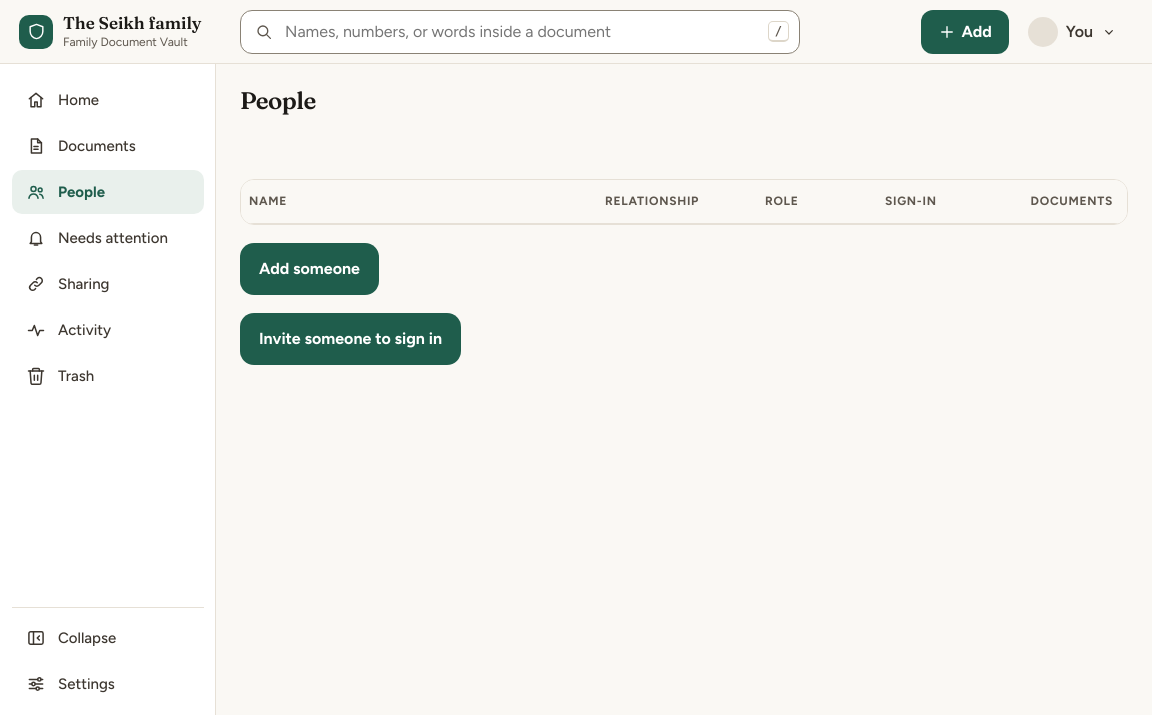
Test: someone outside the family (5.34) › an adult gives a guest only what they can, never Adults only documents
Step 1. Click the button "Invite someone to sign in" → (350, 339), box left=240, top=313, right=461, bottom=365
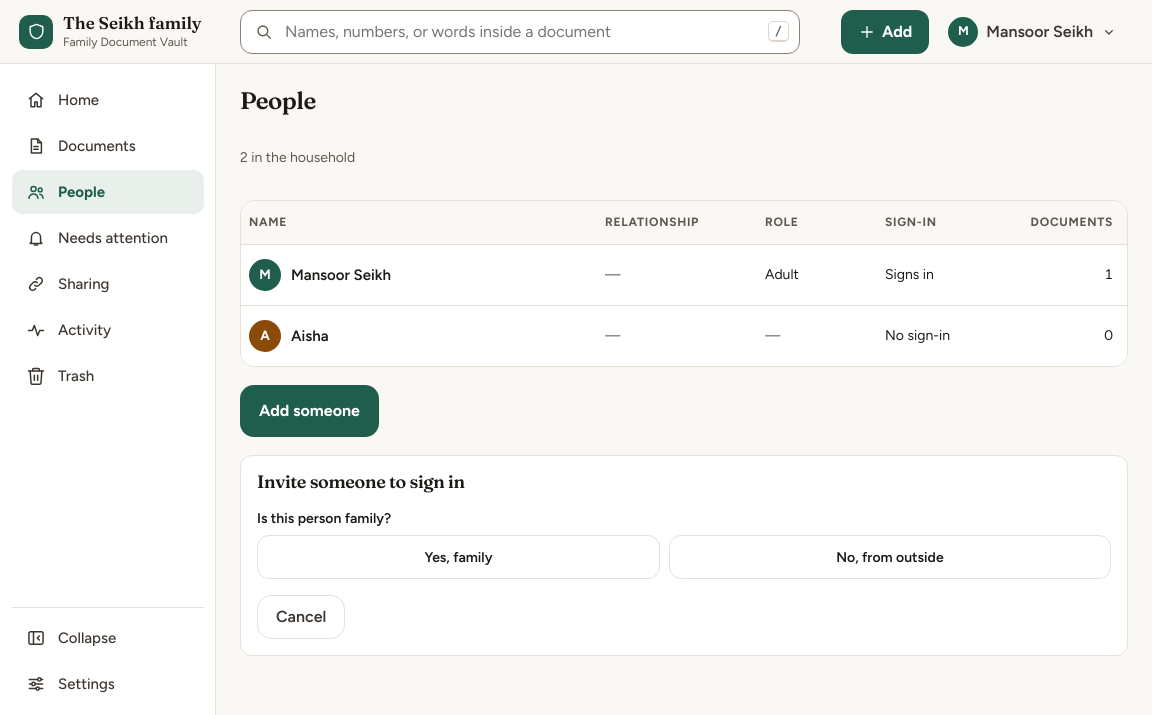
Step 2. Click the button "No, from outside" → (890, 557), box left=669, top=535, right=1111, bottom=579
(page scrolled)
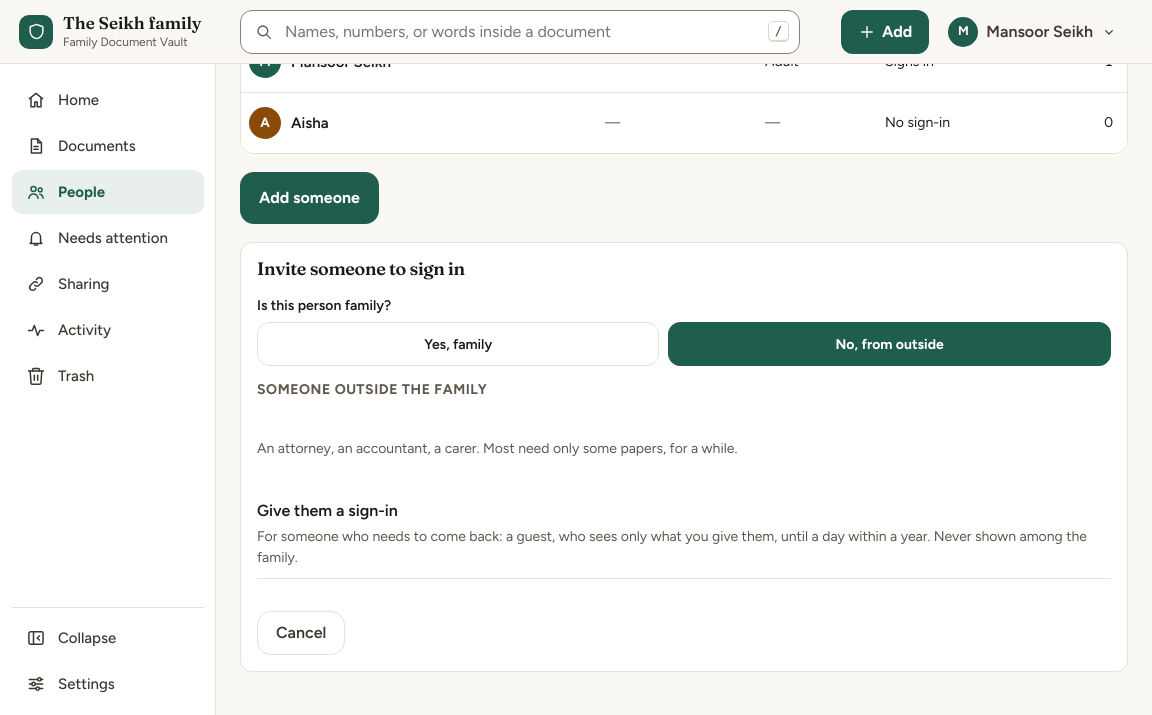
Step 3. Click the button "Give them a sign-in" → (684, 533), box left=257, top=499, right=1111, bottom=568
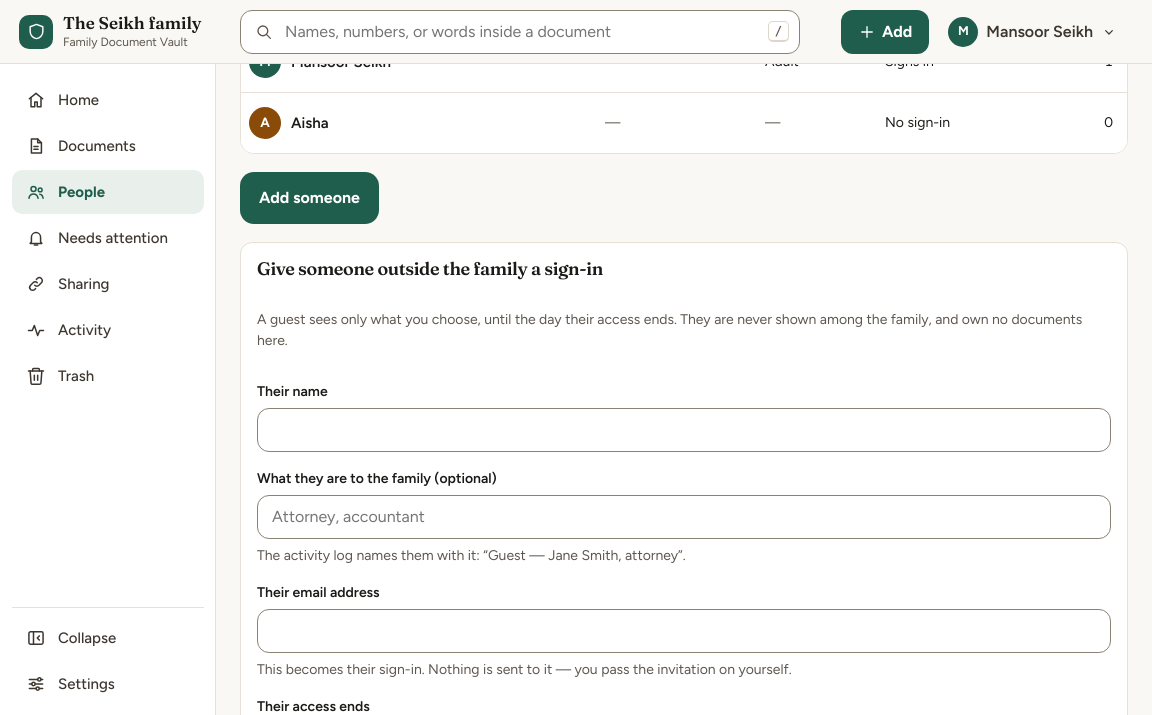
Result: the heading "Give someone outside the family a sign-in" is shown at left=257, top=257, right=603, bottom=280
Step 4. Type "Ann" into the field labelled "Their name" → (684, 430), box left=257, top=408, right=1111, bottom=452
Step 5. Type "ann@example.test" into the field labelled "Their email address" → (684, 631), box left=257, top=609, right=1111, bottom=653
(page scrolled)
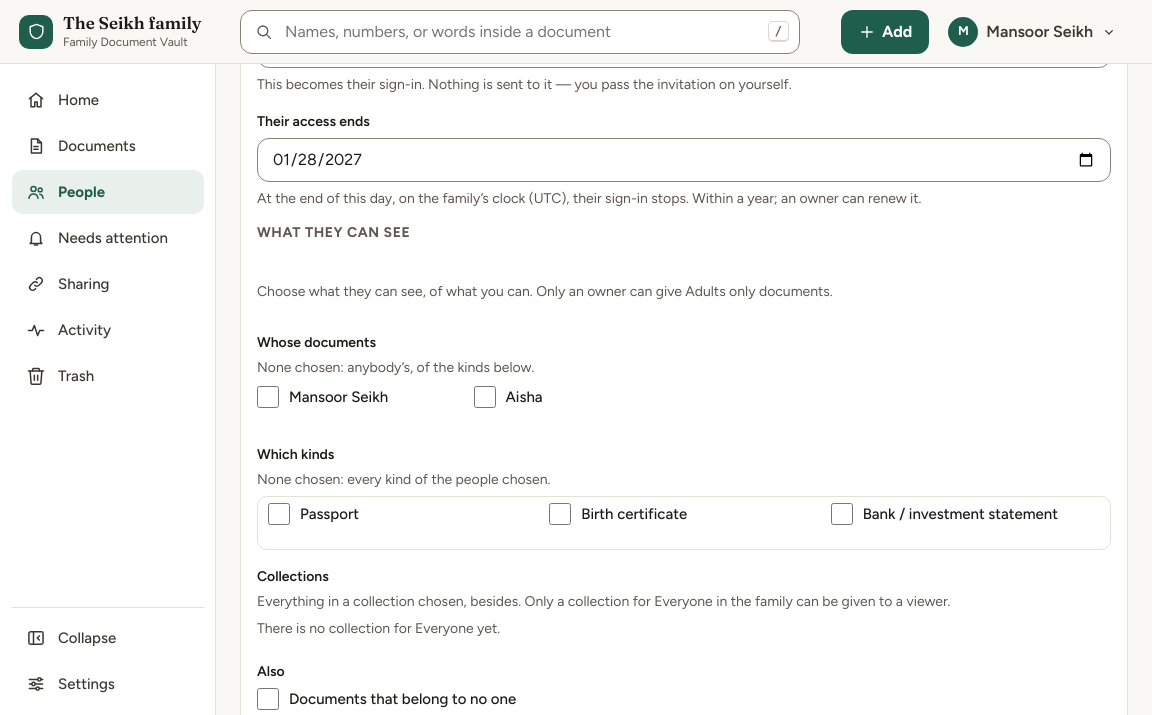
Step 6. Click the checkbox labelled "Aisha" → (484, 397), box left=474, top=386, right=496, bottom=408
(page scrolled)
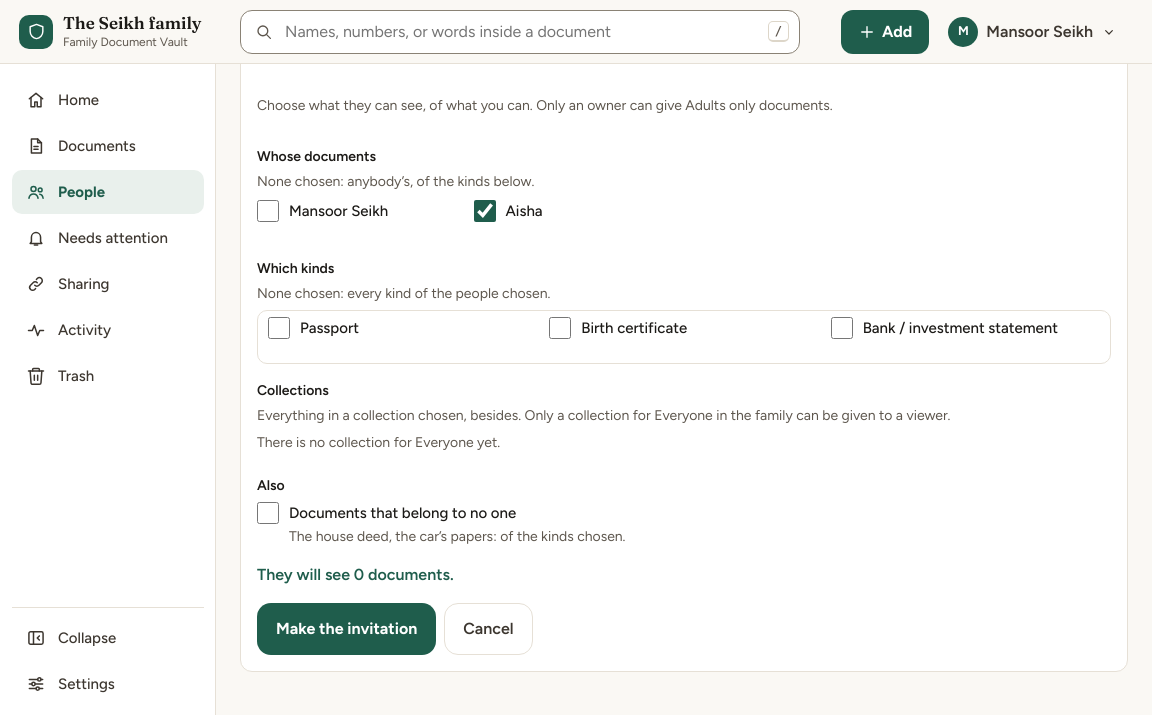
Step 7. Click the button "Make the invitation" → (347, 629), box left=257, top=603, right=436, bottom=655
(page scrolled)
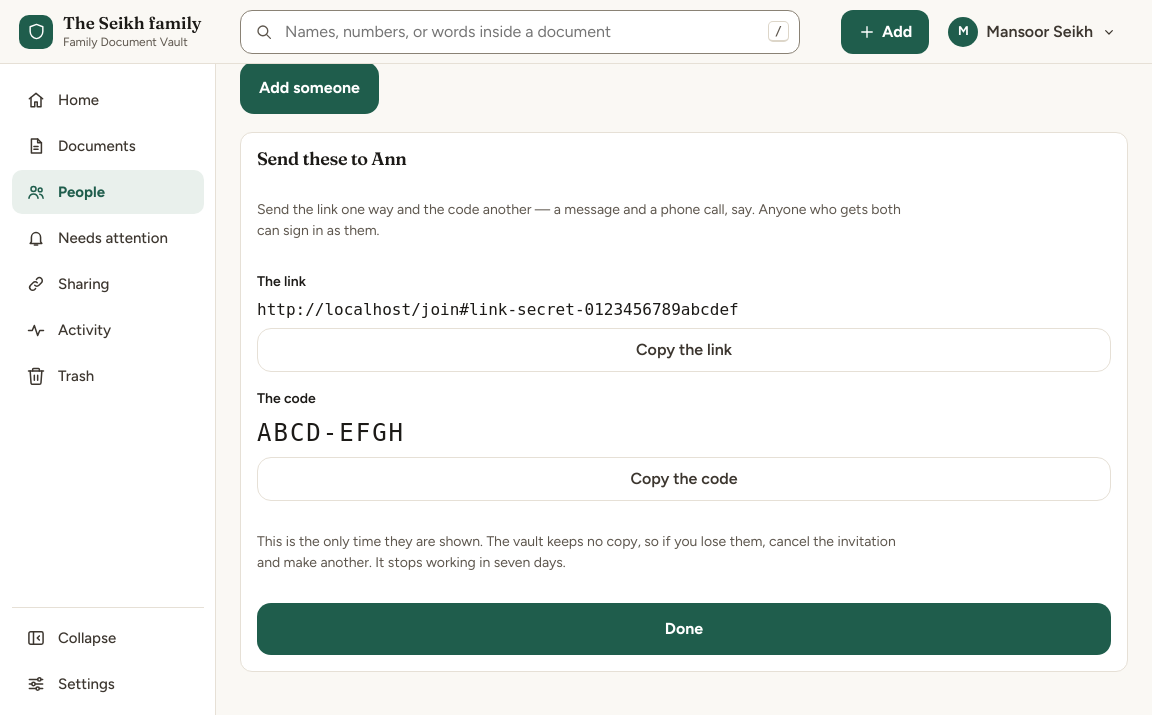
Result: the heading "Send these to Ann" is shown at left=257, top=147, right=407, bottom=170
